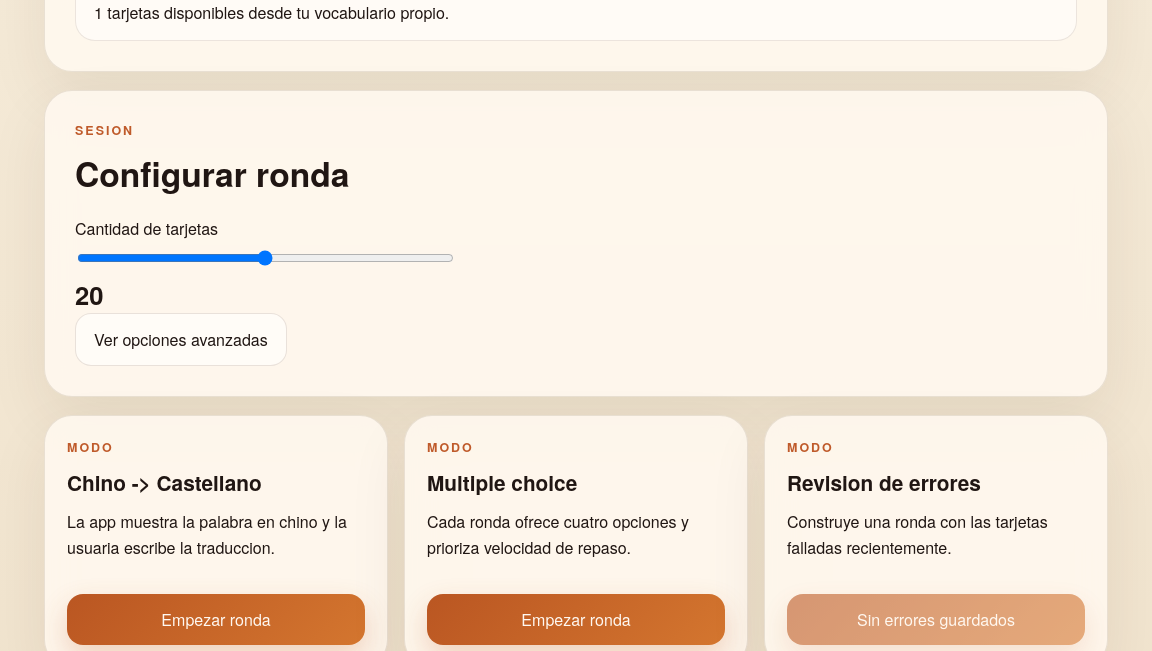
HomeScreen › keeps export buttons and stats collapsed inside advanced options by default
(page scrolled)
Expected: the button "Exportar HSK 2.0 CSV" is not shown
Expected: the button "Ver estadísticas" is not shown
Step 1. Click the button "Ver opciones avanzadas" → (181, 340), box [75,313,287,366]
(page scrolled)
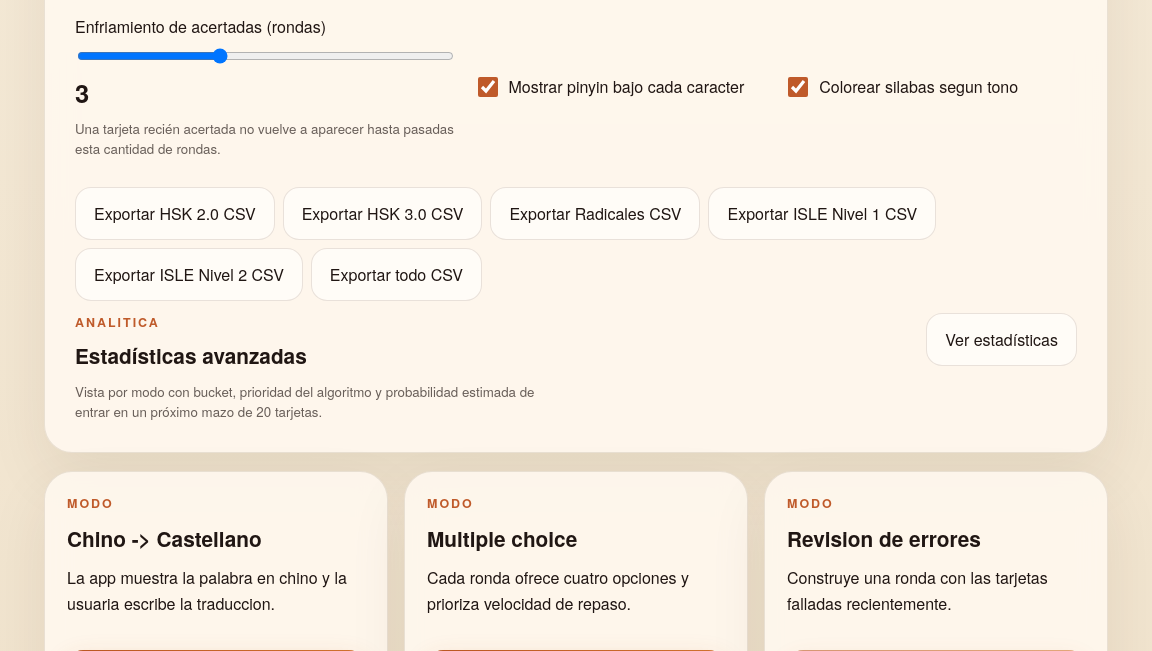
Now the text "Enfriamiento de acertadas (rondas)" is shown, box [75,15,326,38]
Now the text "Mostrar pinyin bajo cada caracter" is shown, box [508,75,766,98]
Now the text "Colorear silabas segun tono" is shown, box [819,75,1018,98]
